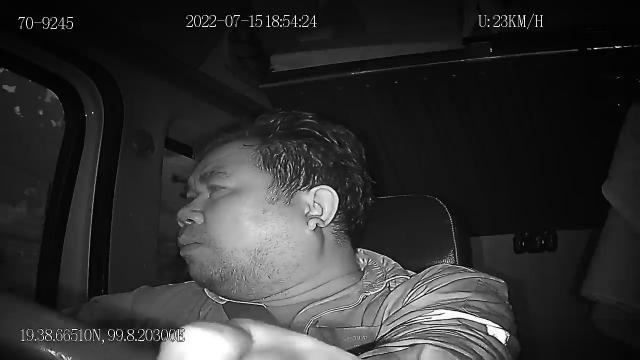Seatbelt: (222, 299, 282, 327)
